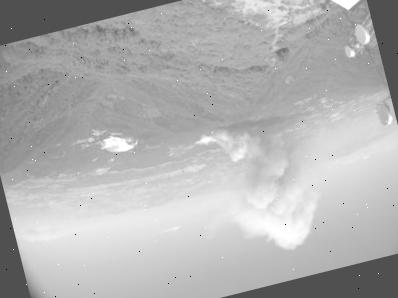smoke: (191, 105, 337, 271)
